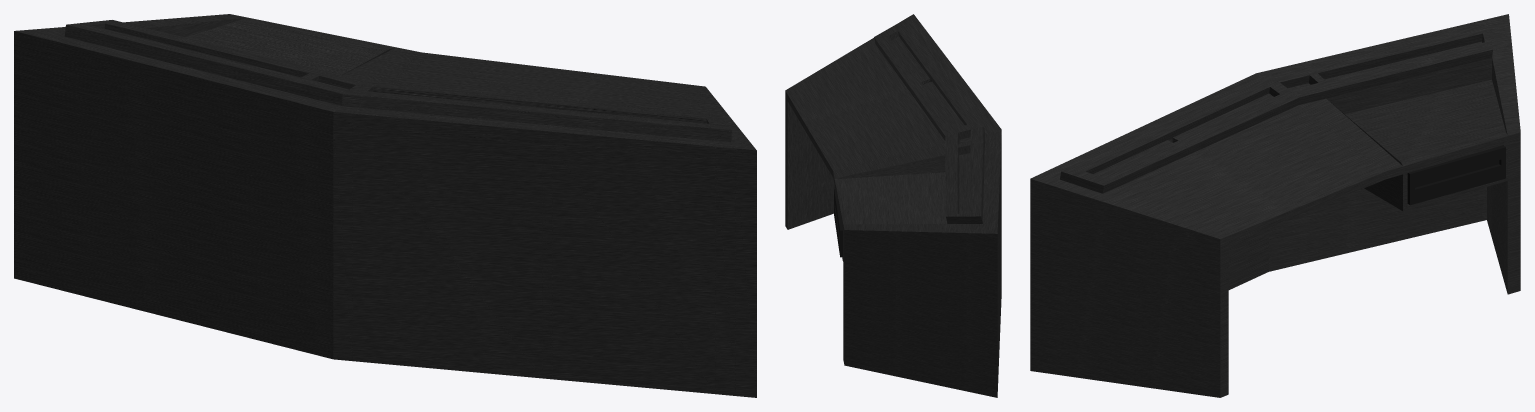
File: Office desk.fbx
The picture shows the model from 3 angles, left to right: view 1: azimuth 30°, elevation 25°; view 2: azimuth 150°, elevation 25°; view 3: azimuth 270°, elevation 25°; orthographic projection. The views are drawn at different scales.
Parts seen in each view (by area): view 1: Desk; view 2: Desk, Drawer; view 3: Desk, Drawer.
Part boxes in pixels (left/top/right/bottom): Desk: left=14, top=14, right=756, bottom=397; Desk: left=785, top=14, right=1001, bottom=397; Drawer: left=834, top=189, right=842, bottom=257; Desk: left=1030, top=14, right=1520, bottom=397; Drawer: left=1407, top=145, right=1505, bottom=205.
Bounding box in the file's own units: 351 × 169 × 380.
2 materials, 1 textured.
